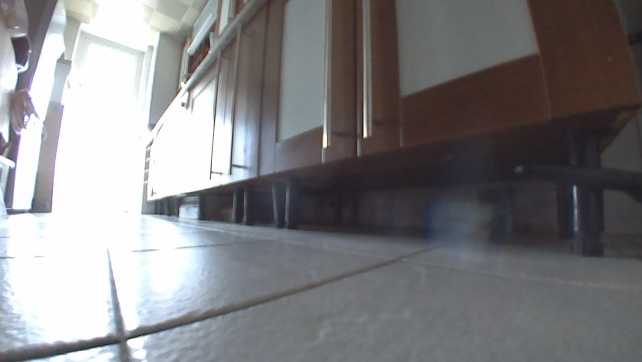cupboard: (141, 0, 641, 258)
